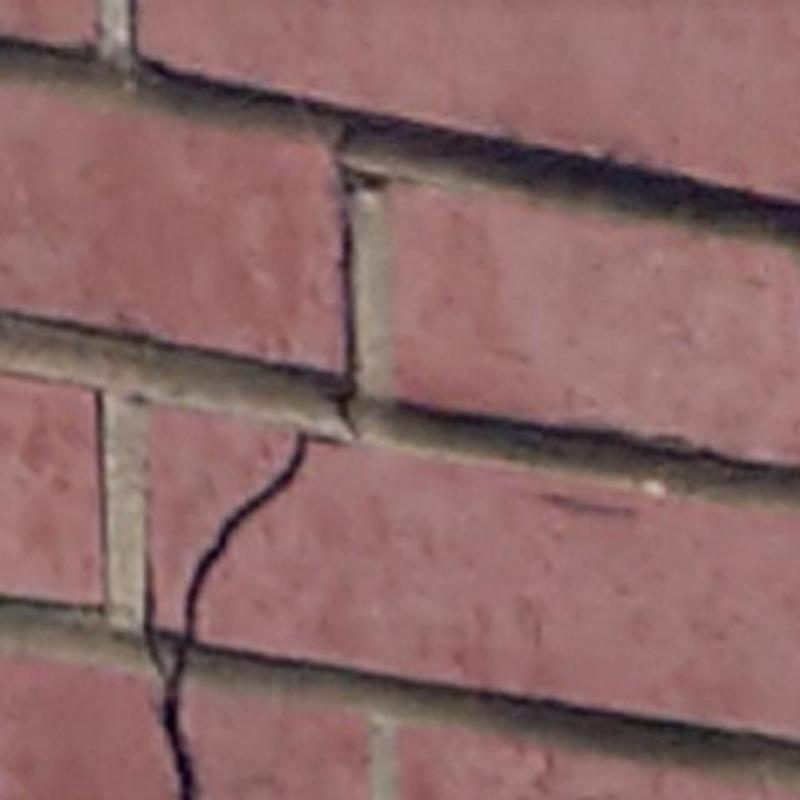pothole: (138, 428, 311, 800), (338, 169, 388, 423)
